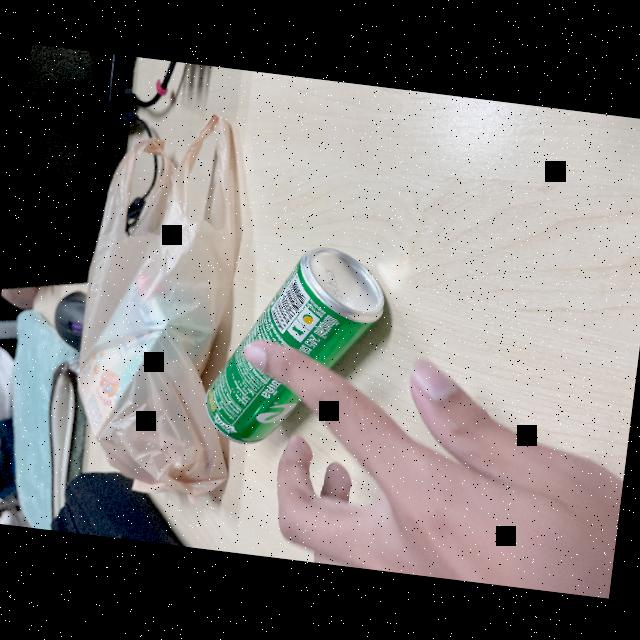can: (186, 222, 400, 462)
